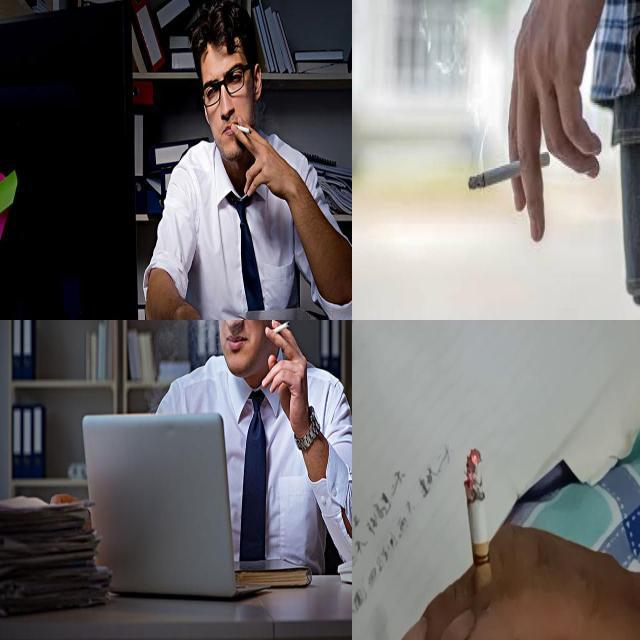smoking: (465, 448, 495, 610), (468, 152, 550, 191), (232, 122, 253, 136), (270, 320, 290, 334)
